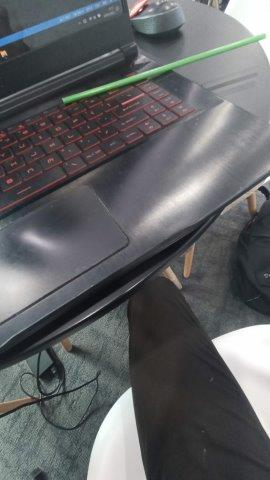sedotan: (62, 34, 265, 103)
